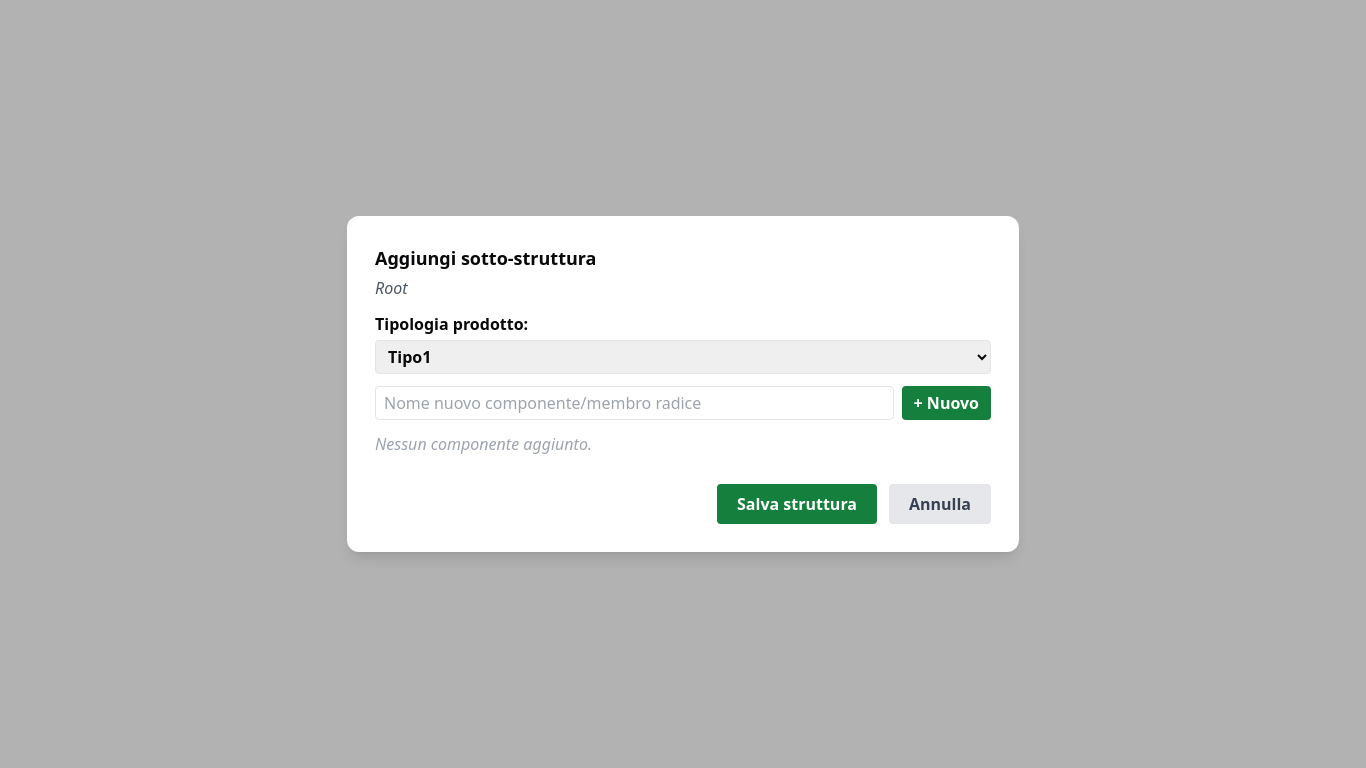
Scenario: AddNodeModal › aggiunge un nuovo nodo radice alla struttura
In the field with placeholder "Nome nuovo componente/membro radice": (634, 403) [375,386,894,420], type "Comp1"
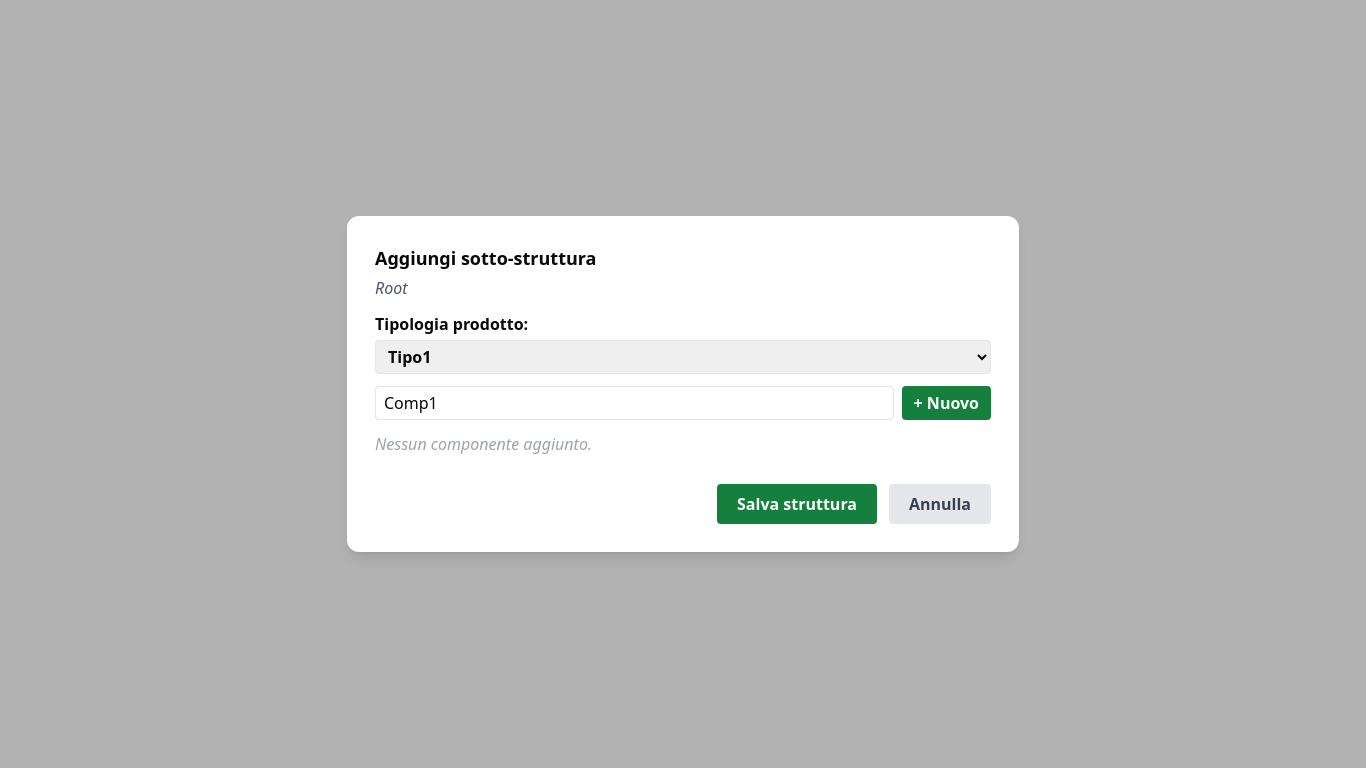
Click the button "+ Nuovo": (946, 403) [902,386,991,420]
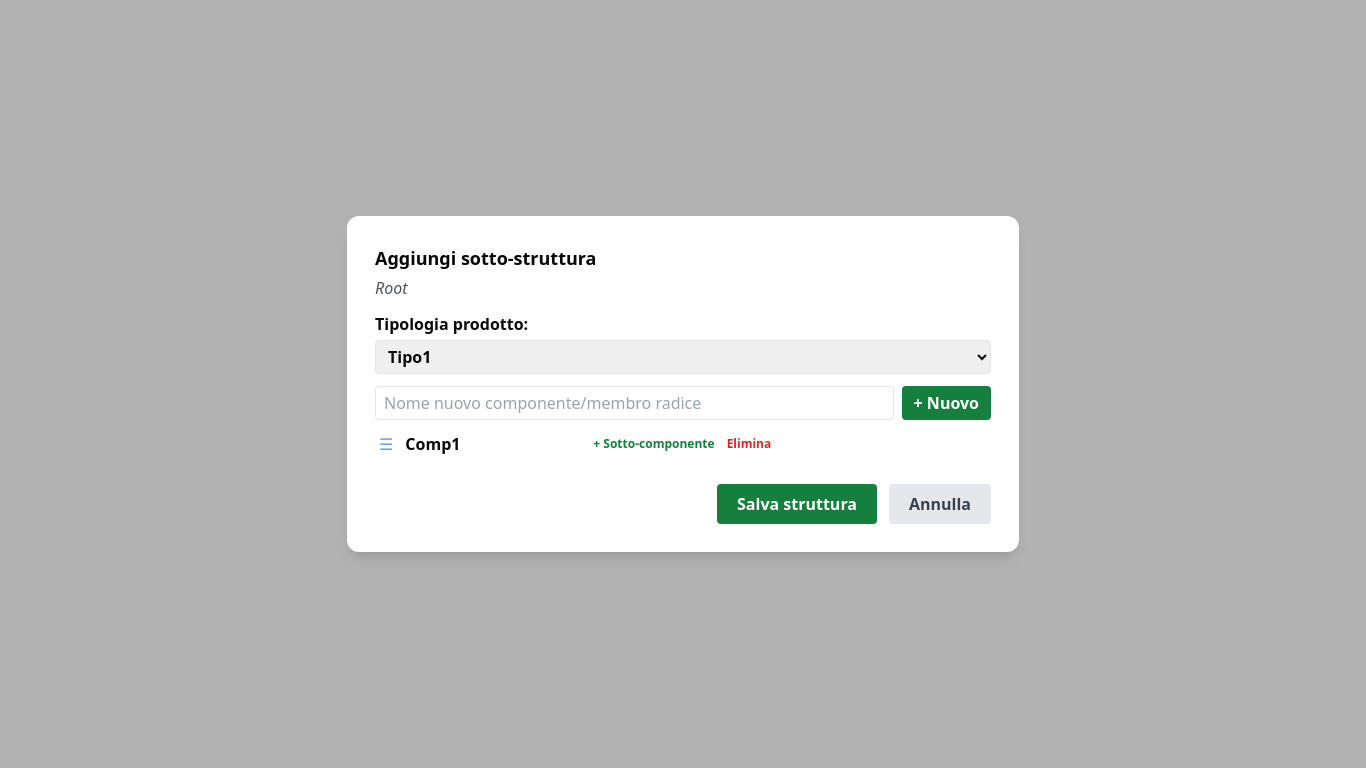
expect the text "Comp1" is shown: met, box [405,433,460,455]
